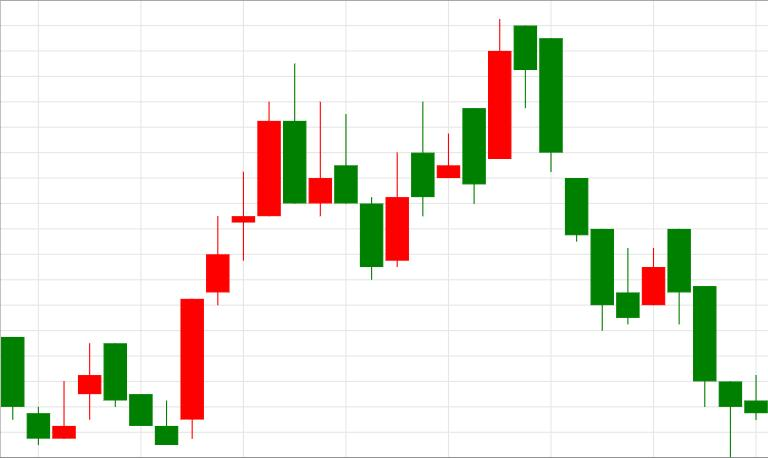hammer_rise: (514, 25, 743, 457)
inverse_hammer_rise: (514, 25, 639, 331)
